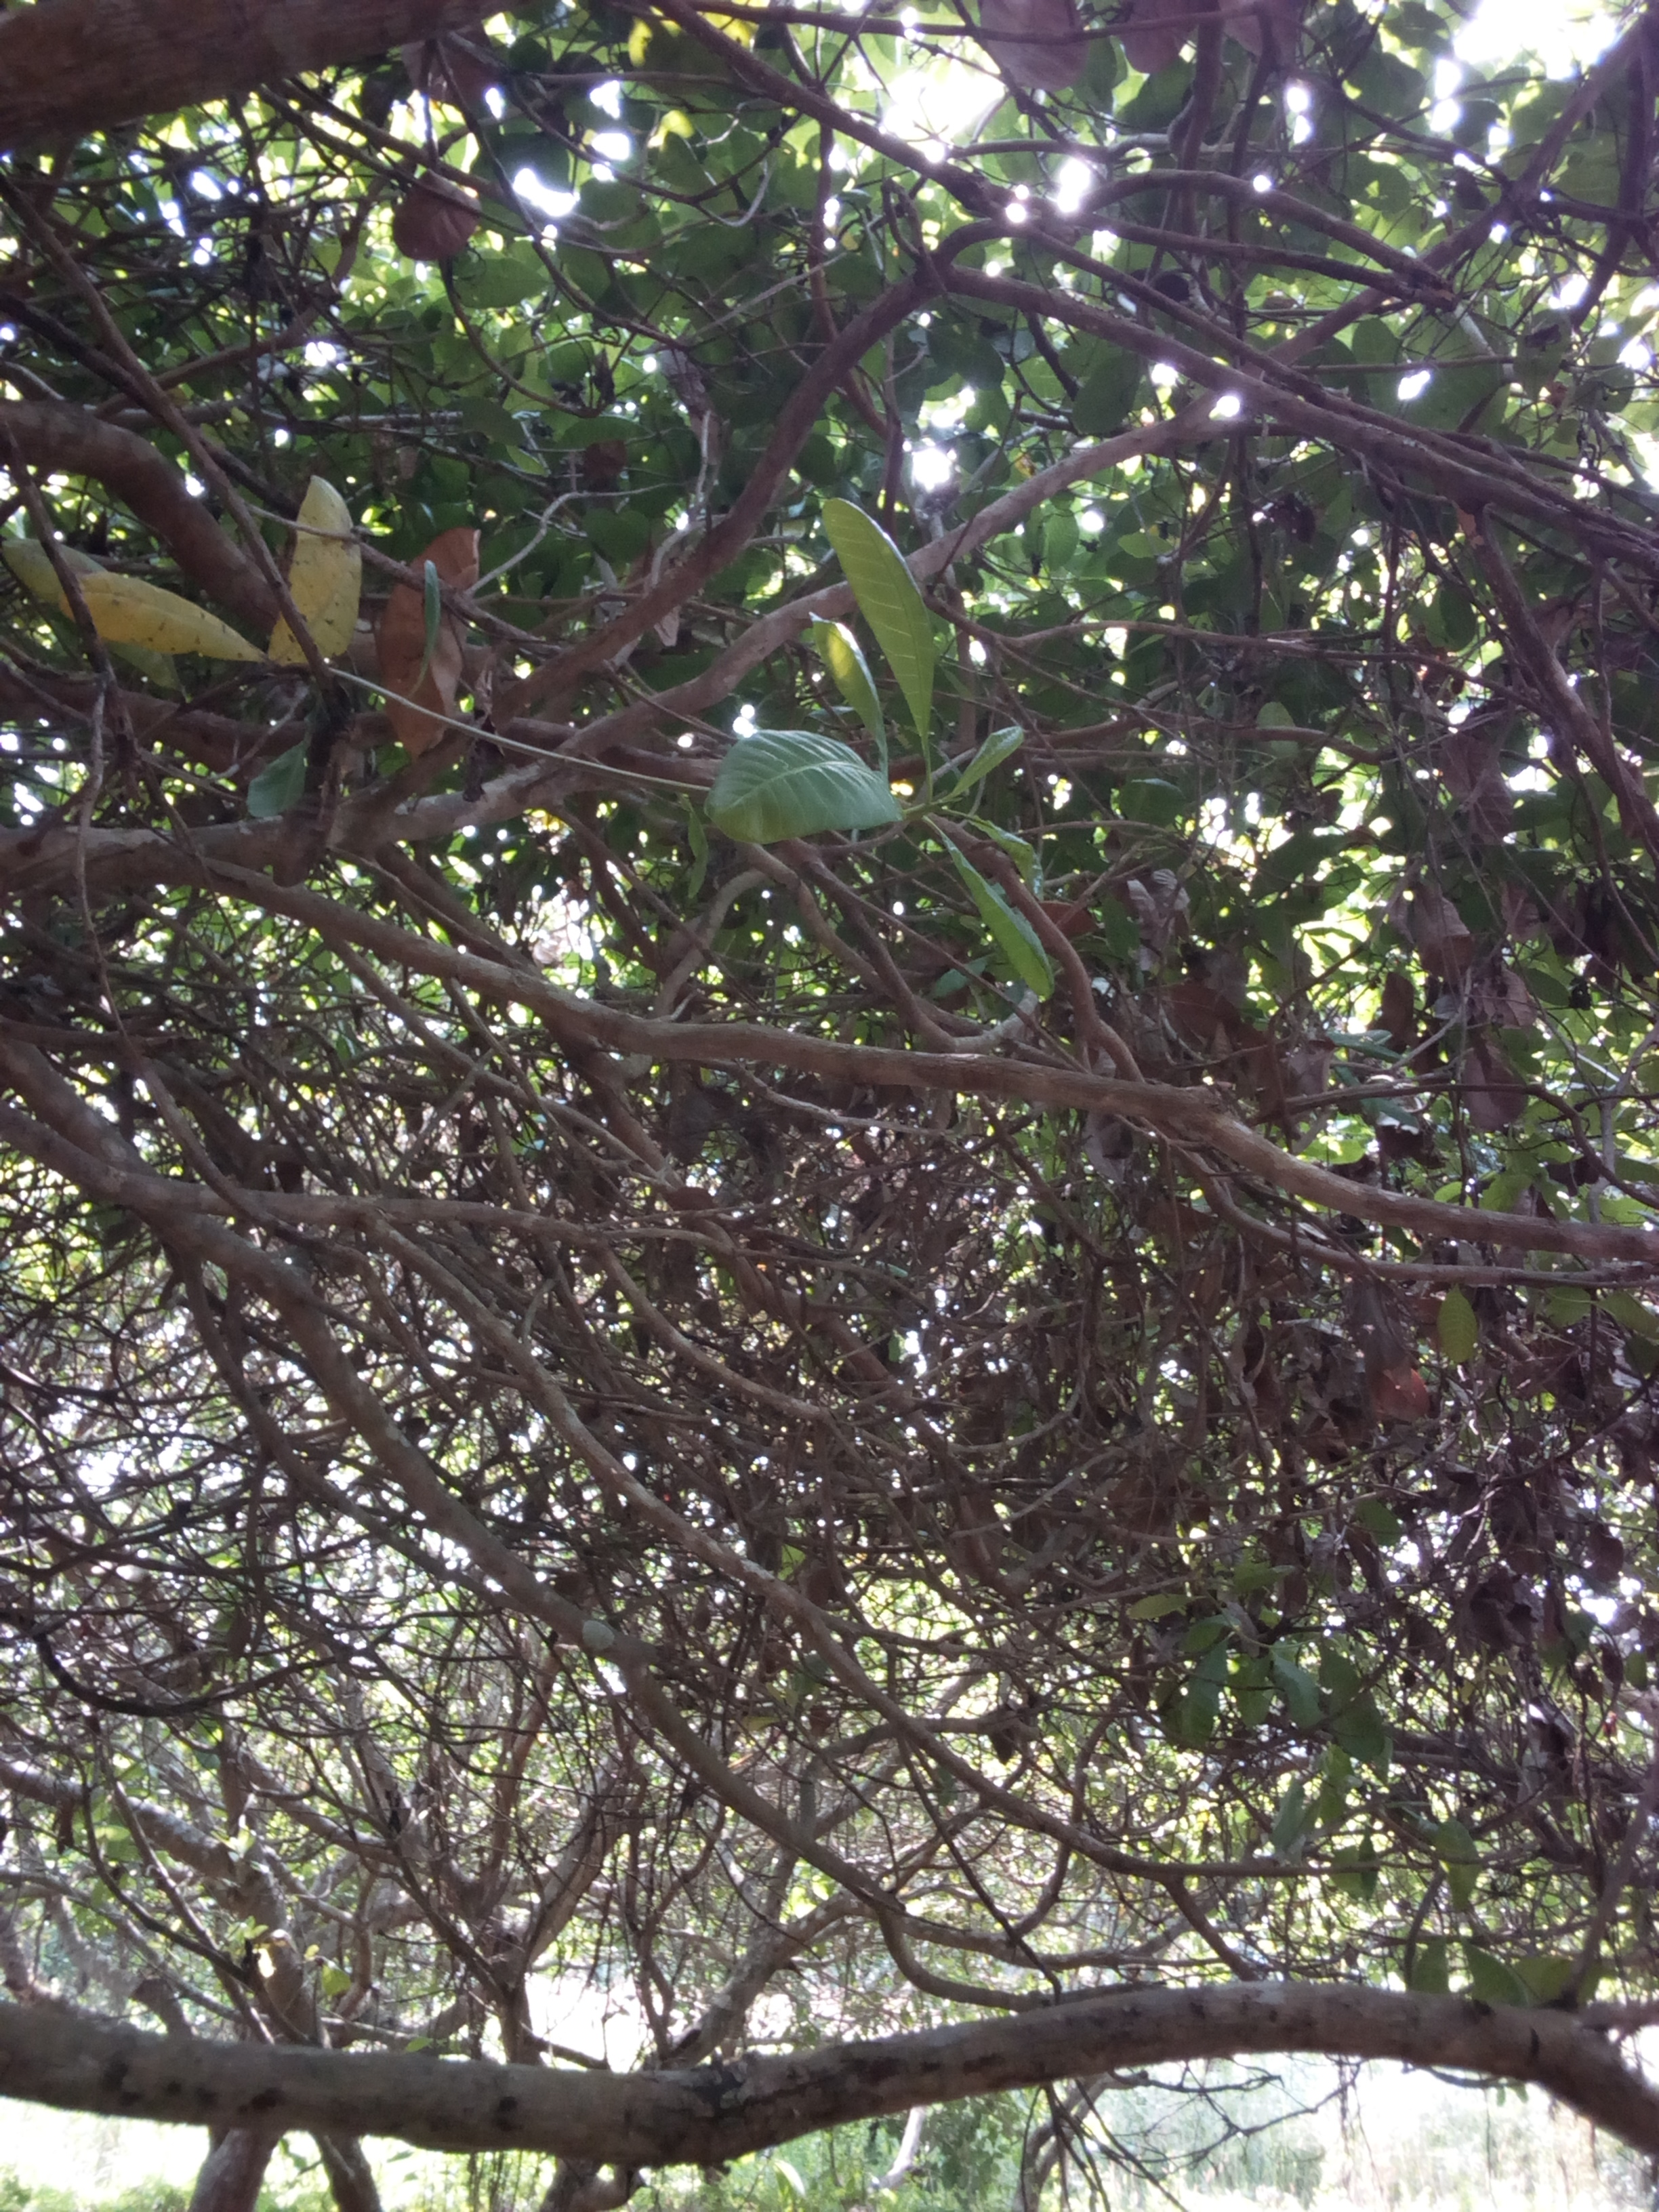Termites: (789, 1984, 1626, 2113), (30, 2001, 643, 2167)
